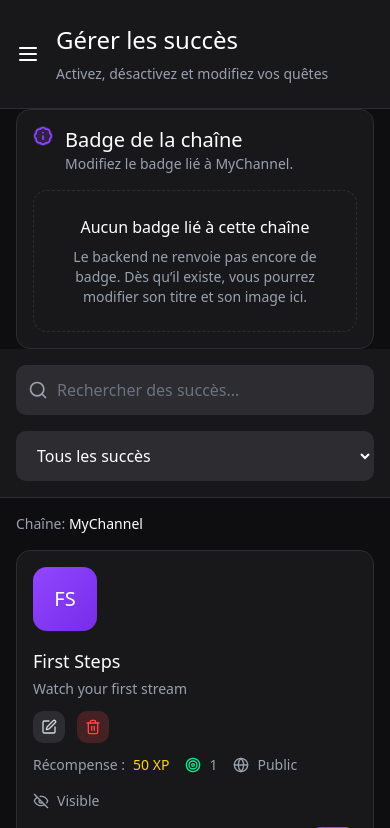
SuccessManagement › should delete an achievement after confirmation
Step 1. Click the button named "Supprimer First Steps" → (93, 727), box [77,711,109,743]
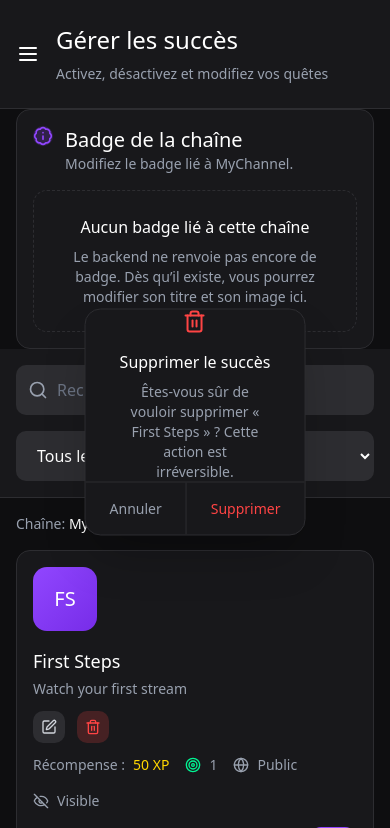
Now the heading "Supprimer le succès" is shown, box [118,350,272,374]
Step 2. Click the button "Supprimer" → (246, 508), box [187,482,304,534]
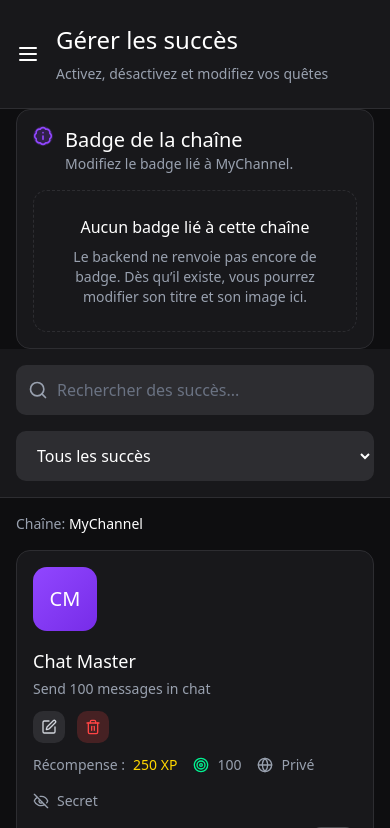
Now the heading "First Steps" is gone
